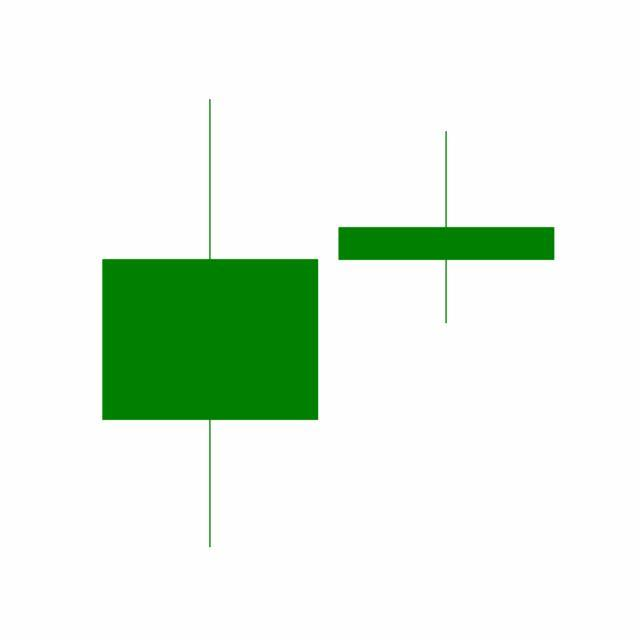Spinning Top: (328, 130, 566, 327)
